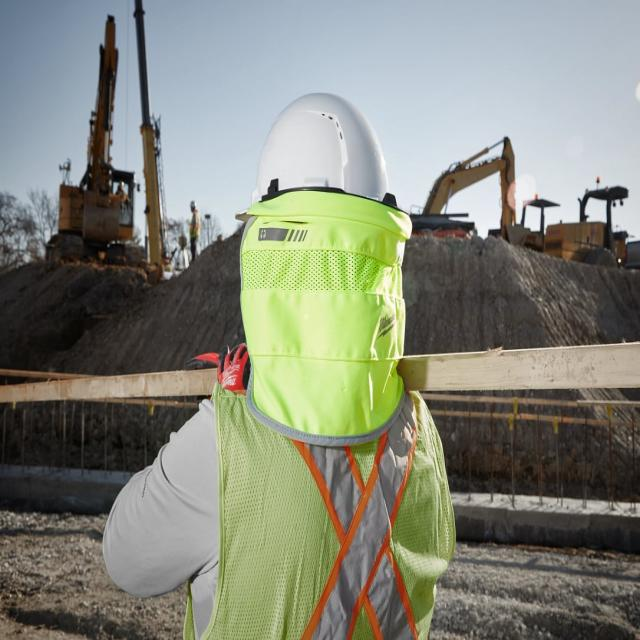helmet: (232, 83, 418, 264), (189, 200, 197, 208)
vest: (221, 349, 448, 640), (188, 211, 202, 247)
